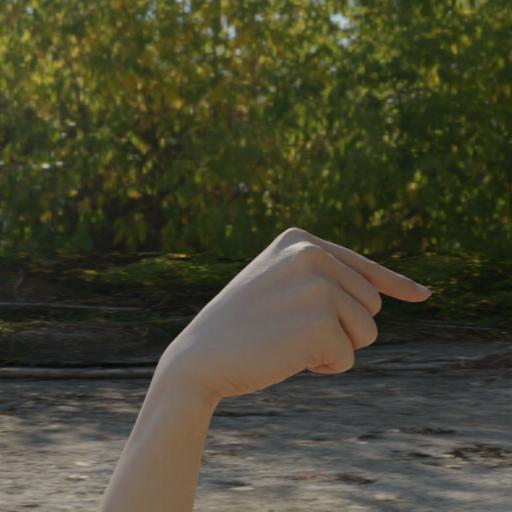G: (112, 179, 452, 508)
